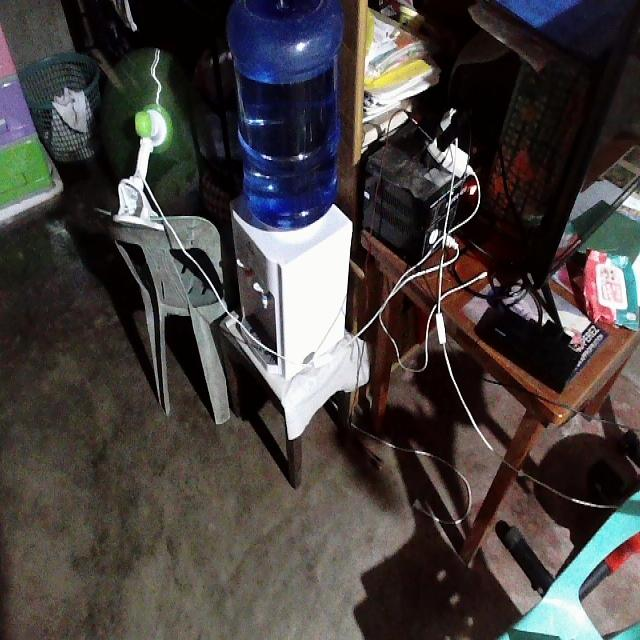-: (407, 93, 473, 180)
